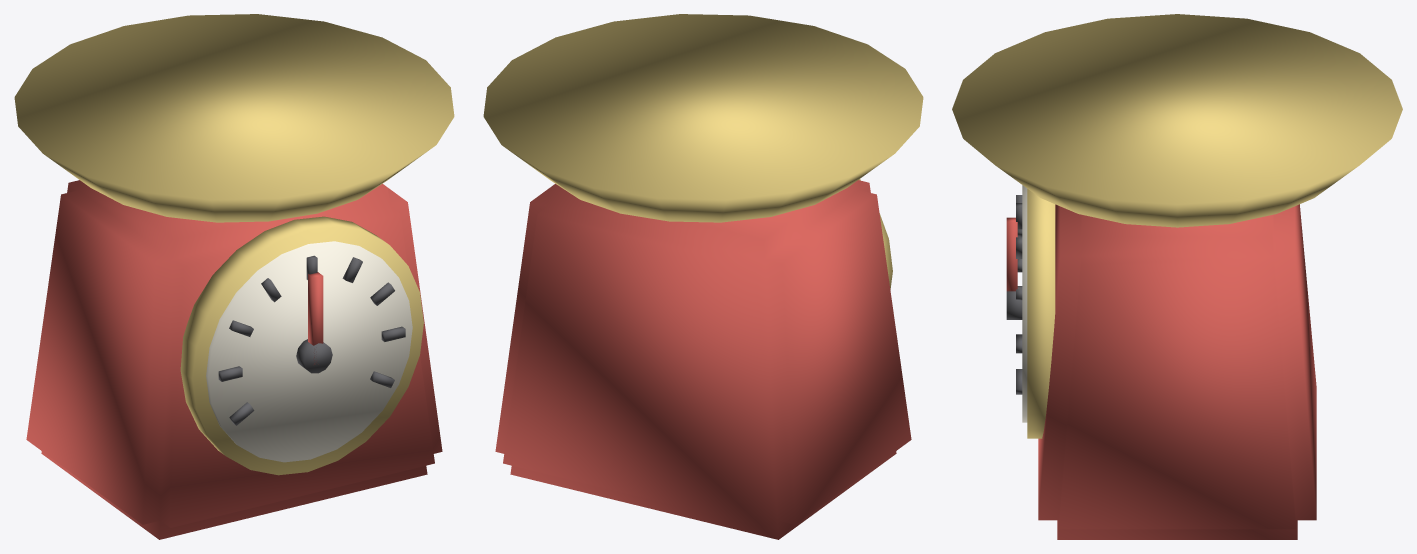
File: quota-scale.glb
3 views of the same model, side by side, from view 1: azimuth 30°, elevation 25°; view 2: azimuth 150°, elevation 25°; view 3: azimuth 270°, elevation 25° (orthographic).
Visible parts, largest first — view 1: Scale_Base, Scale_Pan, Scale_Needle; view 2: Scale_Base, Scale_Pan; view 3: Scale_Base, Scale_Pan, Scale_Needle.
Boxes of the visible parts, x1,y1,x2,y2 form: Scale_Base: [26, 180, 442, 539]; Scale_Pan: [14, 14, 454, 222]; Scale_Needle: [296, 272, 332, 373]; Scale_Base: [495, 179, 911, 539]; Scale_Pan: [483, 14, 923, 222]; Scale_Base: [1016, 185, 1316, 539]; Scale_Pan: [952, 14, 1402, 227]; Scale_Needle: [1006, 217, 1022, 319].
Size of the model in its own units: 0.48 by 0.4275 by 0.48.
